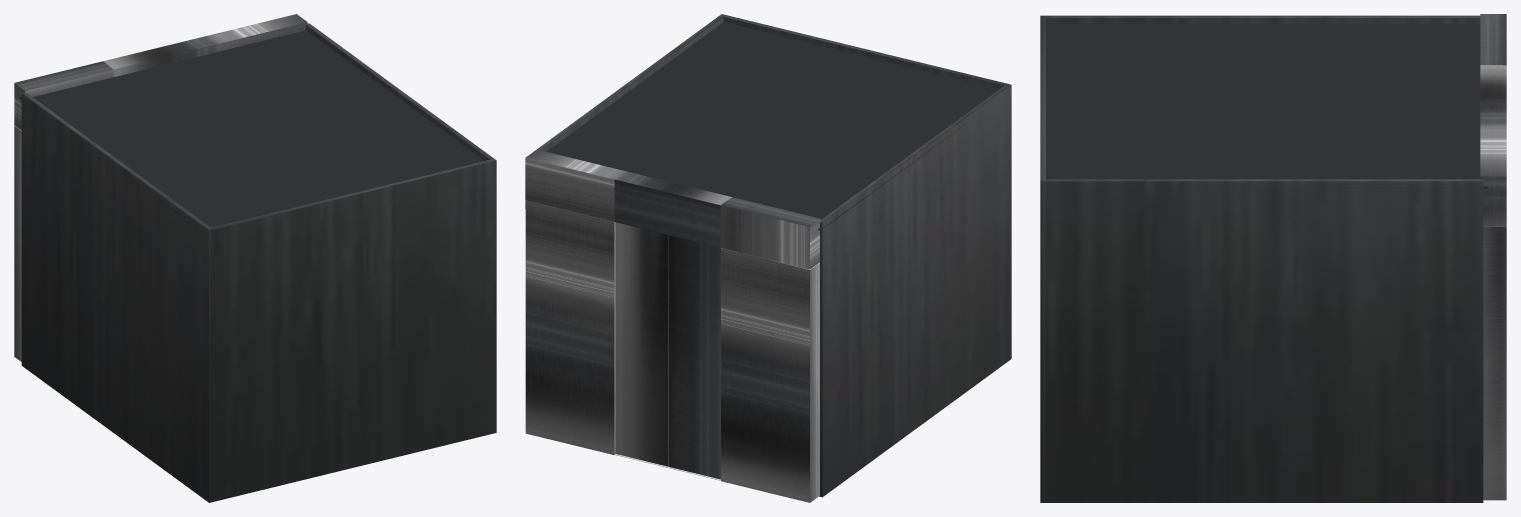
The model's file is cabin.glb.
The picture shows the model from 3 angles, left to right: view 1: azimuth 30°, elevation 25°; view 2: azimuth 150°, elevation 25°; view 3: azimuth 270°, elevation 25°; orthographic projection. The views are drawn at different scales.
Parts seen in each view (by area): view 1: cabin; view 2: cabin, door_r, door_l; view 3: cabin.
Part boxes in pixels (bbox=[...]): cabin: bbox=[14, 14, 496, 502]; cabin: bbox=[525, 14, 1011, 502]; door_r: bbox=[615, 222, 668, 466]; door_l: bbox=[668, 235, 720, 479]; cabin: bbox=[1040, 14, 1506, 502].
Bounding box in the file's own units: 2.73 × 2.49 × 3.25.
Materials: 14 (8 with a texture image).
